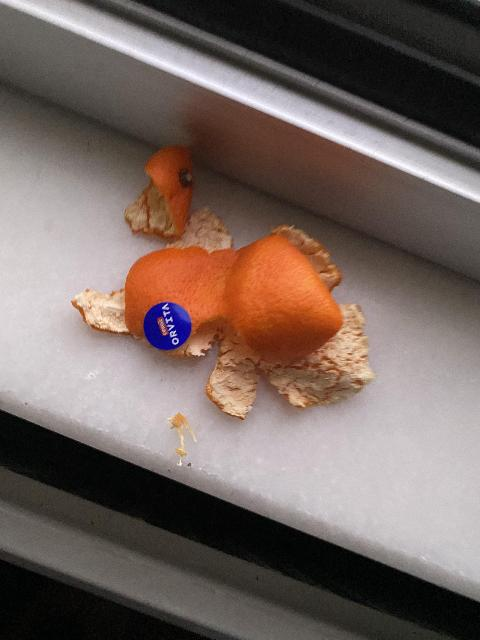Organik: (214, 224, 363, 419), (108, 141, 232, 259), (73, 290, 129, 330), (165, 413, 205, 468)
Plastik: (148, 303, 192, 352)
